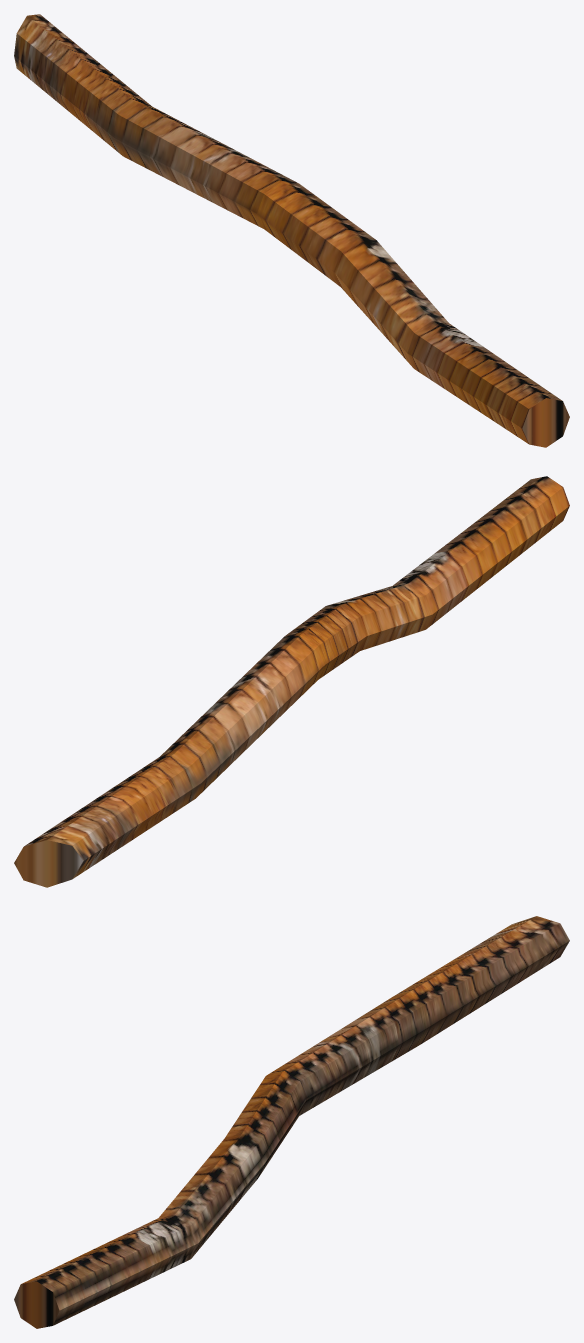
The picture shows the model from 3 angles, top to bottom: view 1: azimuth 30°, elevation 25°; view 2: azimuth 150°, elevation 25°; view 3: azimuth 330°, elevation 25°; orthographic projection. The views are drawn at different scales.
Visible parts, largest first — view 1: Object_12; view 2: Object_12; view 3: Object_12.
Boxes of the visible parts, box(x1,y1,x2,y2) form: Object_12: box(14, 14, 569, 447); Object_12: box(14, 476, 569, 887); Object_12: box(14, 916, 569, 1328).
Size of the model in its own units: 0.1071 by 0.1356 by 1.32.
Materials: 1 (1 with a texture image).
